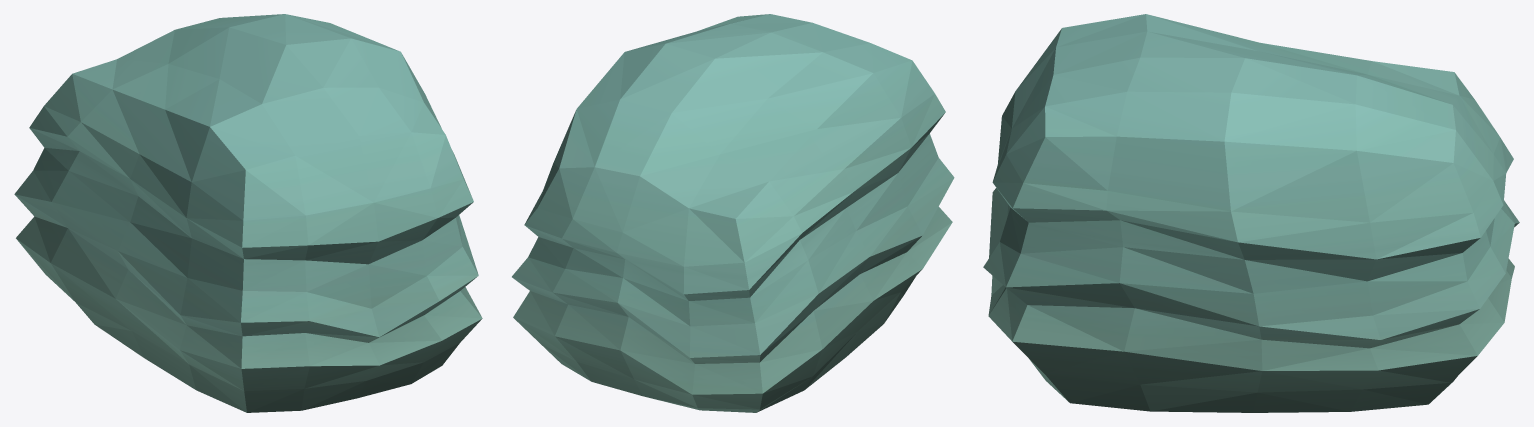
The model's file is bush_round.glb.
3 views of the same model, side by side, from view 1: azimuth 30°, elevation 25°; view 2: azimuth 150°, elevation 25°; view 3: azimuth 270°, elevation 25° (orthographic). The views are drawn at different scales.
Parts seen in each view (by area): view 1: bush_round; view 2: bush_round; view 3: bush_round.
Boxes of the visible parts, x1,y1,x2,y2 form: bush_round: (14,14,482,412); bush_round: (512,14,954,412); bush_round: (983,14,1519,412).
Size of the model in its own units: 1.07 by 0.9 by 1.44.
1 material, 1 textured.
